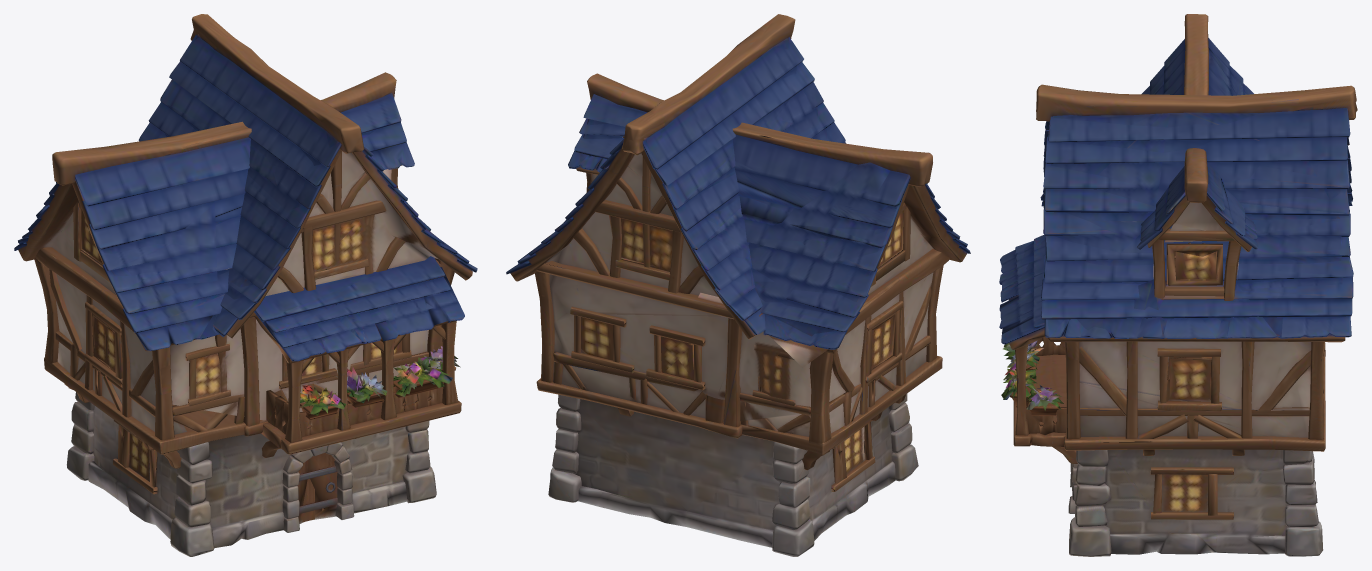
File: house_balcony.glb
3 views of the same model, side by side, from view 1: azimuth 30°, elevation 25°; view 2: azimuth 150°, elevation 25°; view 3: azimuth 270°, elevation 25° (orthographic). The views are drawn at different scales.
Parts seen in each view (by area): view 1: geometry_0; view 2: geometry_0; view 3: geometry_0.
Part boxes in pixels (left/top/right/bottom): geometry_0: left=14, top=14, right=477, bottom=556; geometry_0: left=506, top=14, right=970, bottom=556; geometry_0: left=999, top=14, right=1357, bottom=556.
Size of the model in its own units: 0.8604 by 0.9521 by 0.7407.
Materials: 1 (1 with a texture image).
